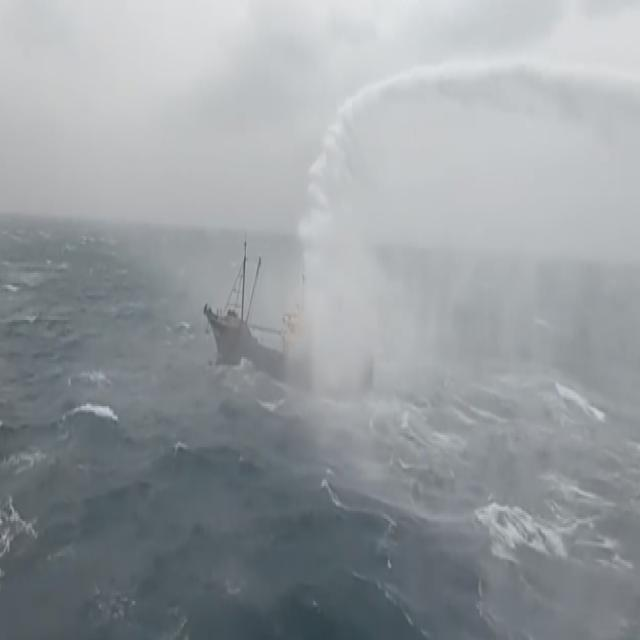fishing boat: (202, 222, 368, 393)
